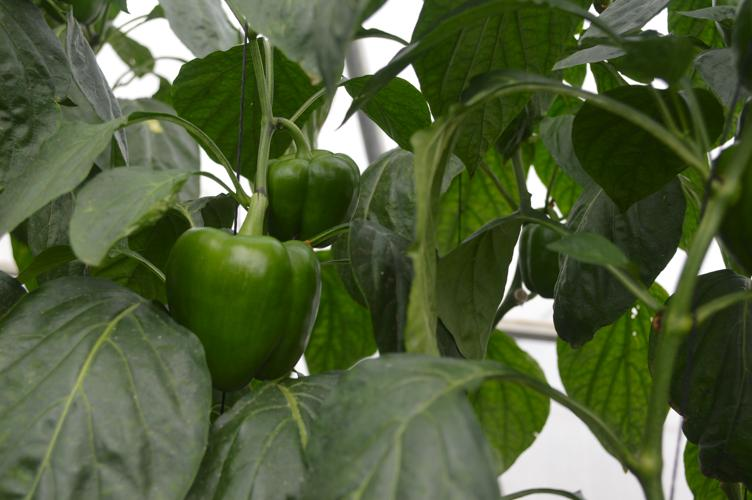BellPepper: (174, 229, 323, 386), (263, 150, 360, 241), (516, 222, 557, 301)
